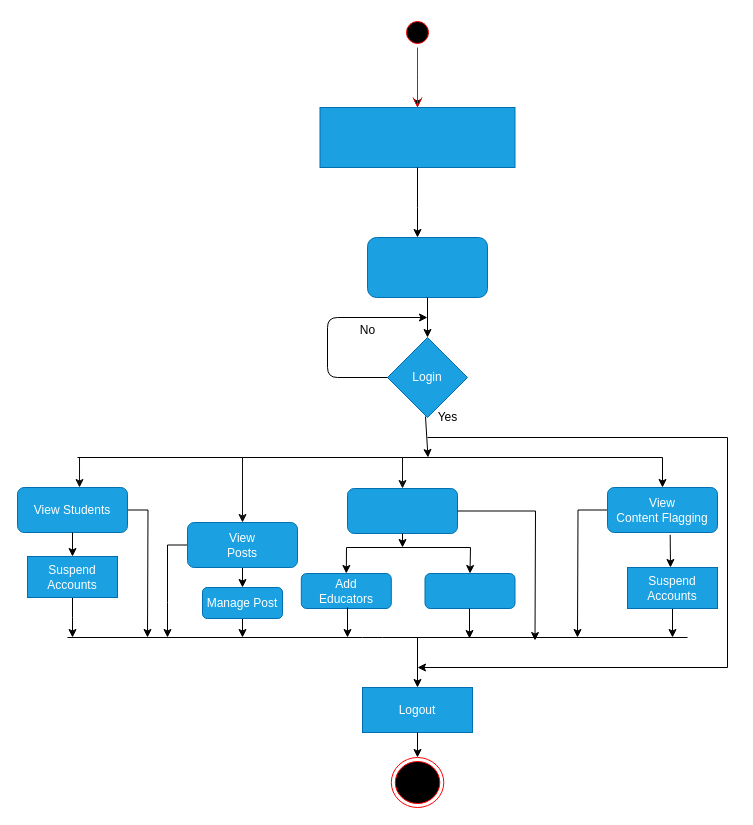
Image size: 753x825. Some labels were removed from this diagram. Here are the shapes that lost their labels. From the top down, the centre of each, then its label:
At (417,137): "Learning Management System".
At (427,267): "Admin".
At (402,511): "View Educators".
At (469,590): "Manage Educators".
